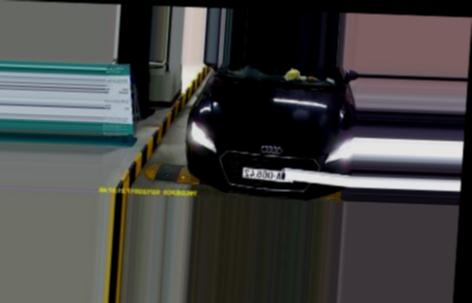License_Plate: (243, 167, 290, 181)
